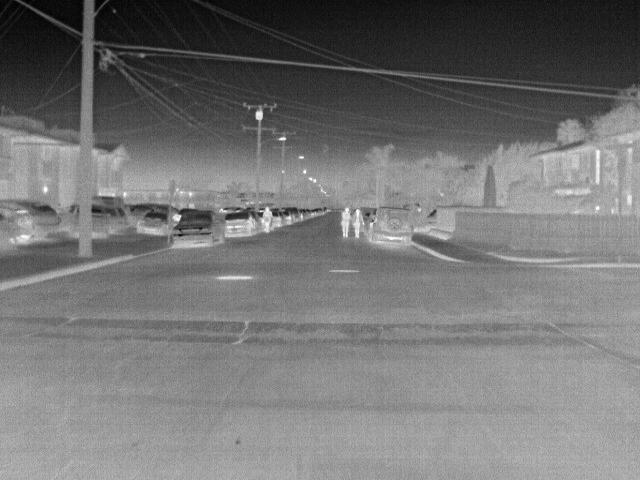car: (168, 208, 226, 251), (368, 206, 416, 247), (18, 203, 64, 237), (3, 200, 35, 239), (221, 208, 257, 235), (137, 212, 172, 237), (100, 207, 129, 235), (90, 204, 109, 241), (93, 196, 125, 216), (270, 207, 284, 229), (286, 206, 301, 223), (280, 209, 293, 228)
person: (260, 204, 276, 236), (351, 207, 366, 238), (339, 204, 353, 237)
